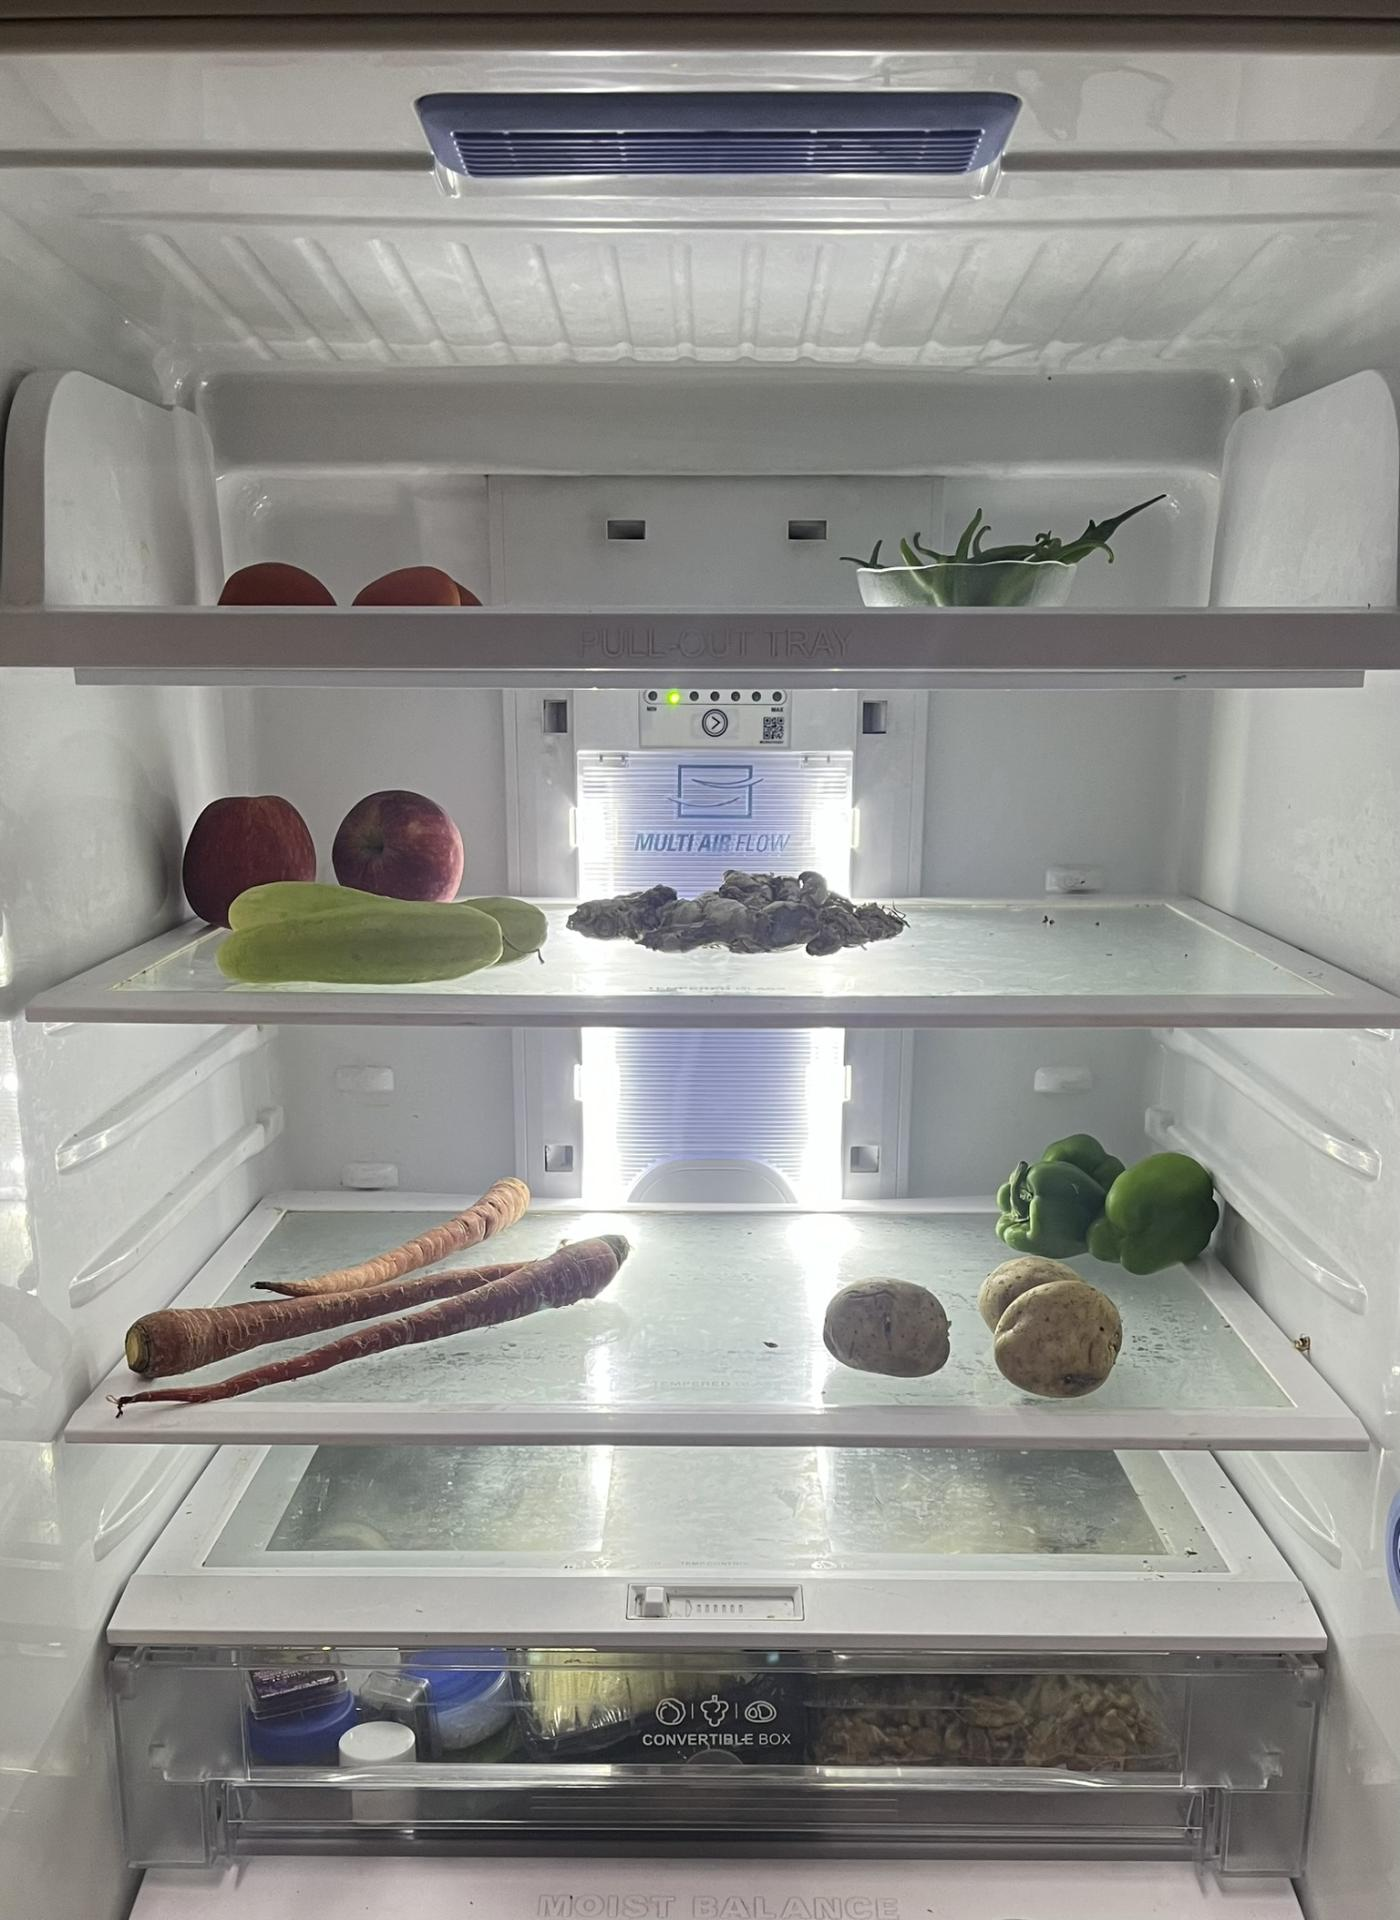apple: (179, 781, 322, 921), (337, 793, 465, 909)
capsicum: (990, 1128, 1230, 1275)
carrots: (109, 1272, 644, 1403), (267, 1178, 535, 1297)
chillies: (844, 484, 1154, 607)
cucumber: (207, 878, 559, 978)
ginger: (571, 863, 927, 957)
potato: (969, 1249, 1130, 1409), (817, 1272, 951, 1377)
tomato: (219, 550, 477, 593)
